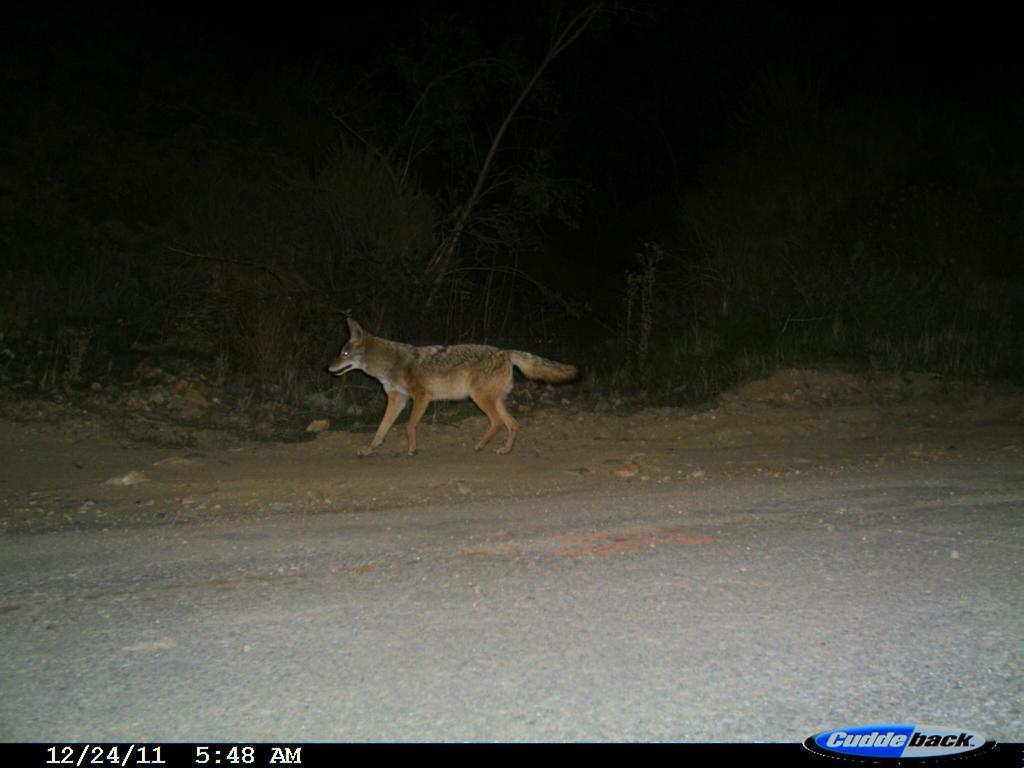coyote: (317, 308, 588, 472)
